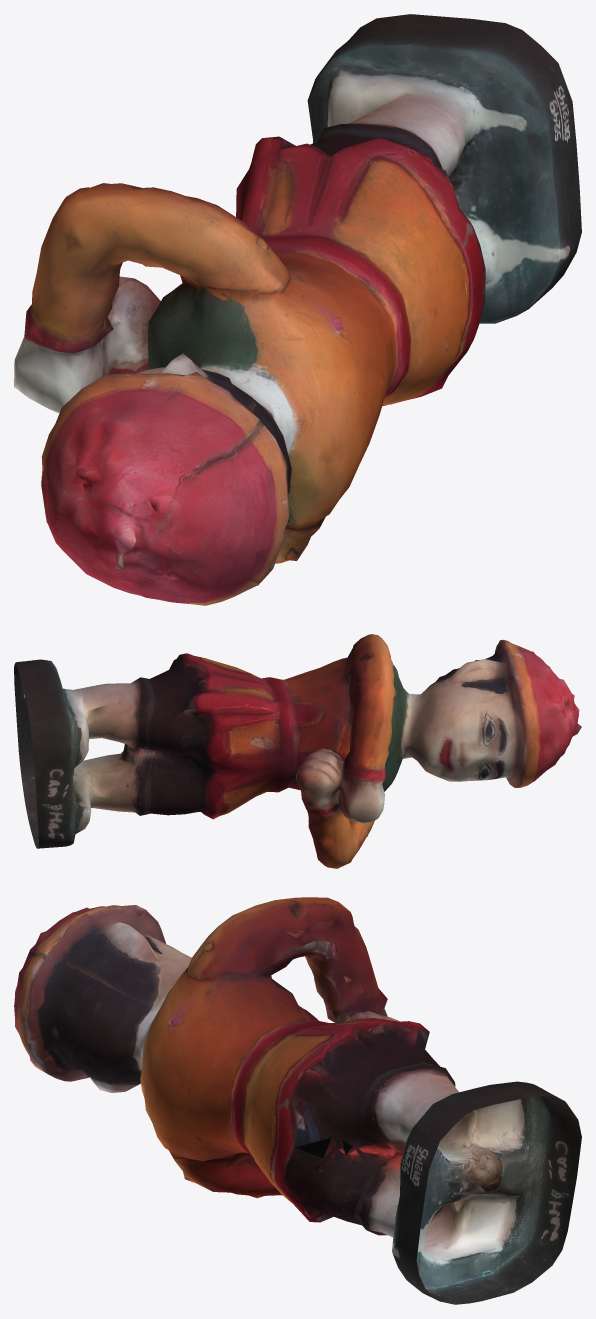
The model's file is CamHuong.obj.
3 views of the same model, one above another, from view 1: azimuth 30°, elevation 25°; view 2: azimuth 150°, elevation 25°; view 3: azimuth 270°, elevation 25° (orthographic). The views are drawn at different scales.
Size of the model in its own units: 7.17 by 3.48 by 6.54.
1 material, 1 textured.
